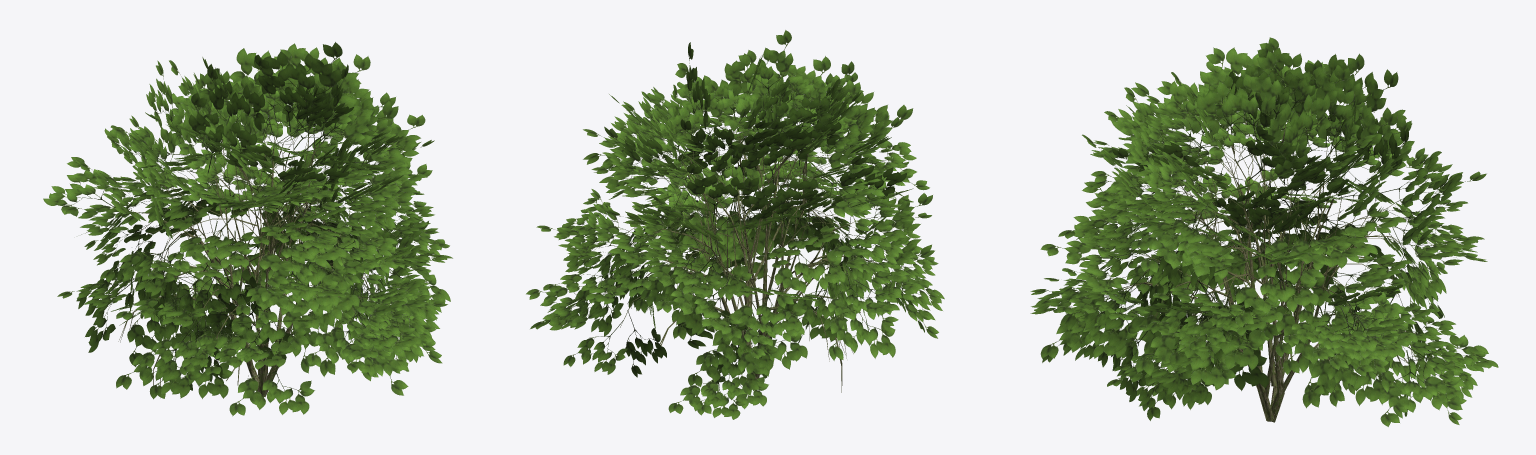
Rendered from shrub.glb.
The picture shows the model from 3 angles, left to right: view 1: azimuth 30°, elevation 25°; view 2: azimuth 150°, elevation 25°; view 3: azimuth 270°, elevation 25°; orthographic projection. The views are drawn at different scales.
Visible parts, largest first — view 1: leaves, tree; view 2: leaves, tree; view 3: leaves, tree.
Boxes of the visible parts, bbox=[...] form: leaves: bbox=[43, 42, 452, 416]; tree: bbox=[118, 122, 380, 396]; leaves: bbox=[526, 30, 944, 419]; tree: bbox=[603, 111, 893, 392]; leaves: bbox=[1030, 37, 1498, 426]; tree: bbox=[1120, 122, 1418, 422].
Bounding box in the file's own units: 1.64 × 1.44 × 1.78.
2 materials, 2 textured.
